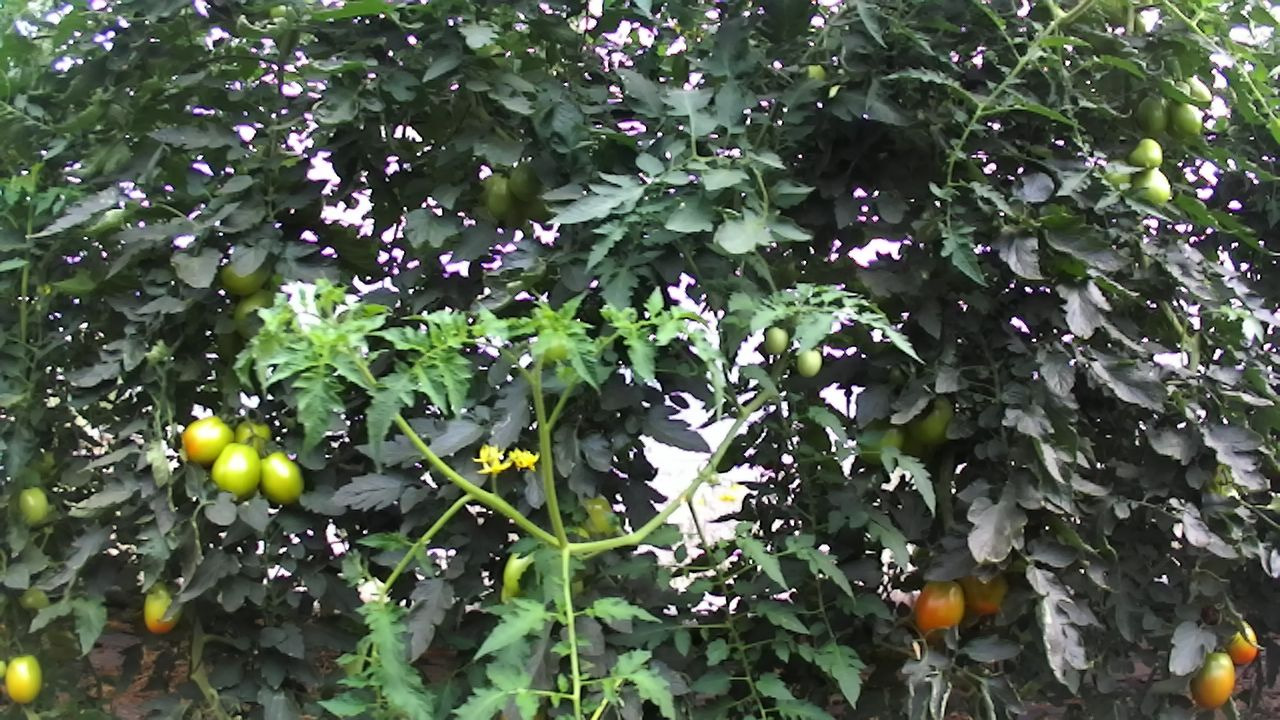tomato: (912, 572, 969, 646), (902, 388, 957, 450), (208, 441, 264, 499), (180, 413, 237, 469), (1188, 647, 1237, 710), (256, 447, 305, 506), (140, 581, 186, 637), (3, 650, 44, 705), (1225, 614, 1260, 672), (1130, 165, 1172, 212), (1167, 95, 1207, 141), (1134, 90, 1171, 137), (484, 172, 517, 221), (507, 161, 541, 205), (1126, 134, 1166, 170), (16, 484, 49, 527), (794, 346, 823, 379), (762, 324, 790, 356)
